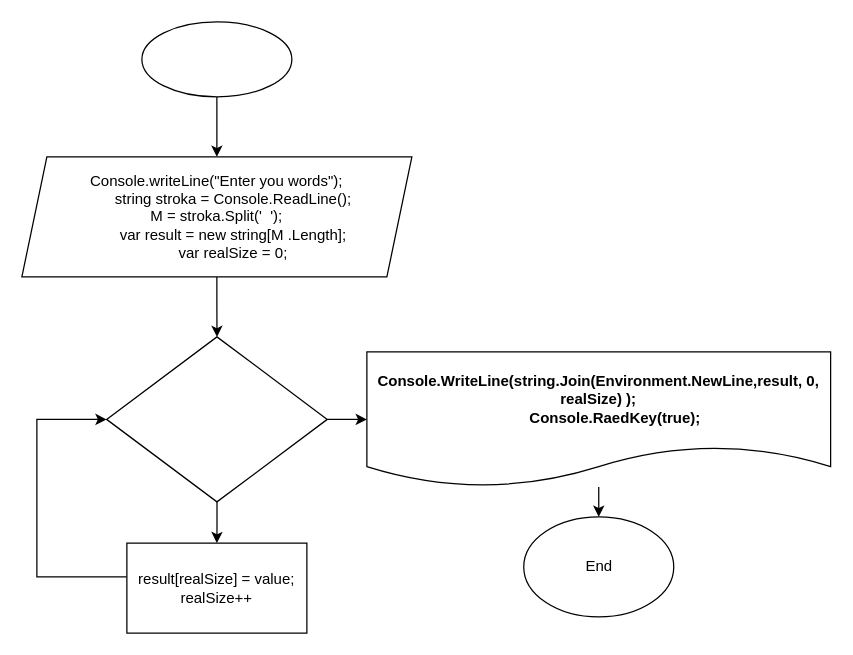
The diagram is 853 pixels wide and 655 high, and some of its shapes have lost their labels. The shapes that lost their labels are listed below. From the top down, each one's centre as x and y in pixels, then its label:
At pixel 216 59: "Start".
At pixel 216 419: "value.Length <= 3)".
